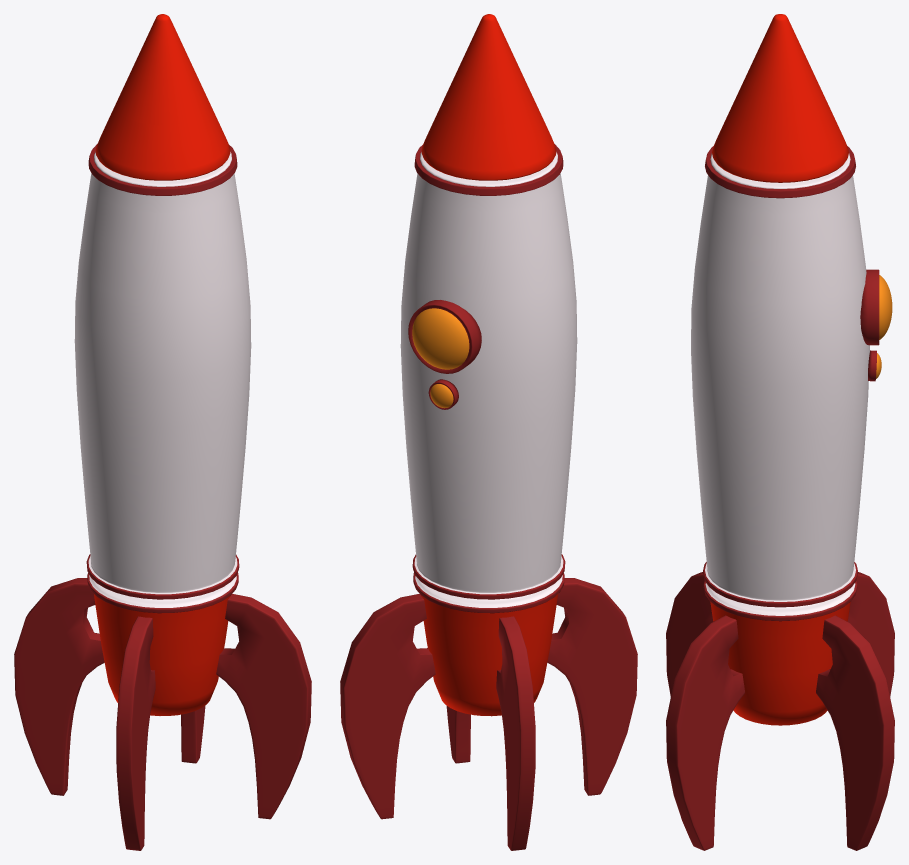
File: rocket.glb
The picture shows the model from 3 angles, left to right: view 1: azimuth 30°, elevation 25°; view 2: azimuth 150°, elevation 25°; view 3: azimuth 270°, elevation 25°; orthographic projection.
Parts seen in each view (by area): view 1: Rocket, Cube.011, Cube.004, Cube.005, Cube.014, Cube.003, Cube.012, Cube.013, Cube.001; view 2: Rocket, Cube.011, Cube.001, Cube.003, Cube.014, Cube.005, Cube.008, Cube.012, Cube.013, Cube.007, Cube.004; view 3: Rocket, Cube.011, Cube.001, Cube.004, Cube.014, Cube.003, Cube.005, Cube.012, Cube.013, Cube.007, Cube.008.
Boxes of the visible parts, x1,y1,x2,y2 form: Rocket: [74, 152, 251, 607]; Cube.011: [95, 14, 230, 180]; Cube.004: [216, 593, 311, 819]; Cube.005: [14, 578, 104, 795]; Cube.014: [94, 594, 230, 715]; Cube.003: [116, 616, 155, 850]; Cube.012: [86, 554, 239, 613]; Cube.013: [88, 144, 237, 195]; Cube.001: [181, 706, 205, 763]; Rocket: [400, 152, 577, 607]; Cube.011: [421, 14, 556, 180]; Cube.001: [340, 593, 435, 819]; Cube.003: [547, 578, 637, 795]; Cube.014: [421, 594, 557, 716]; Cube.005: [496, 616, 535, 850]; Cube.008: [412, 308, 469, 369]; Cube.012: [412, 554, 565, 613]; Cube.013: [414, 144, 563, 195]; Cube.007: [408, 300, 481, 373]; Cube.004: [446, 706, 470, 763]; Rocket: [691, 153, 869, 615]; Cube.011: [712, 14, 848, 182]; Cube.001: [816, 615, 894, 850]; Cube.004: [666, 615, 744, 850]; Cube.014: [710, 602, 850, 725]; Cube.003: [666, 572, 713, 696]; Cube.005: [847, 572, 894, 696]; Cube.012: [703, 562, 857, 621]; Cube.013: [705, 146, 855, 198]; Cube.007: [860, 269, 879, 345]; Cube.008: [879, 275, 892, 339].
Bounding box in the file's own units: 1.89 × 7.27 × 1.89.
